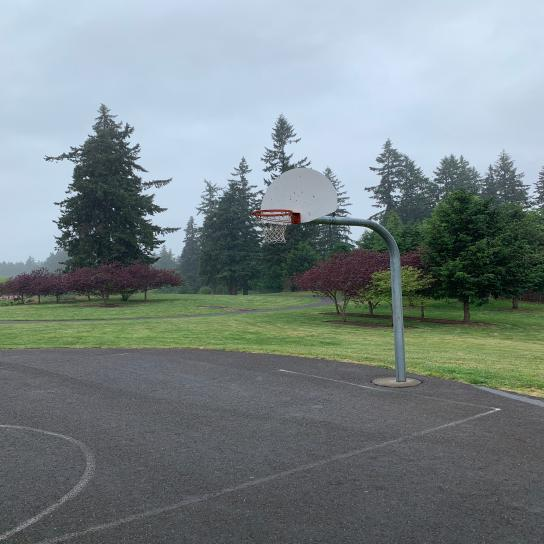basketball-hoop: (250, 209, 295, 244)
